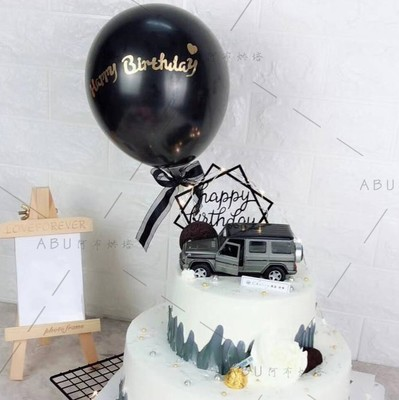balloon: (83, 2, 230, 165)
